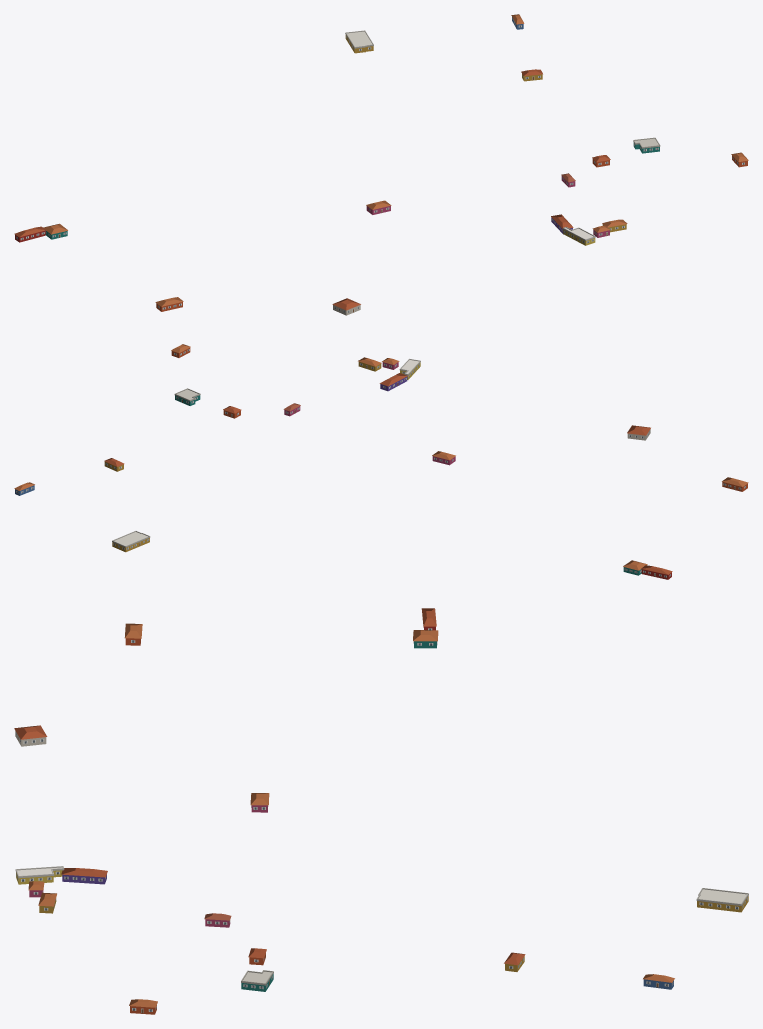
File: msb_oranjestad_m12_0.glb
The picture shows the model from 3 angles, top to bottom: view 1: azimuth 30°, elevation 25°; view 2: azimuth 150°, elevation 25°; view 3: azimuth 270°, elevation 25°; orthographic projection. The views are drawn at different scales.
Parts seen in each view (by area): view 1: msb_oranjestad_m12_0_lod0; view 2: msb_oranjestad_m12_0_lod0; view 3: msb_oranjestad_m12_0_lod0.
Boxes of the visible parts, x1,y1,x2,y2 form: msb_oranjestad_m12_0_lod0: (14, 14, 748, 315); msb_oranjestad_m12_0_lod0: (14, 344, 748, 579); msb_oranjestad_m12_0_lod0: (14, 608, 748, 1014).
Size of what is drawn, in the model's own units: 411 by 13.81 by 314.
3 materials, 1 textured.
